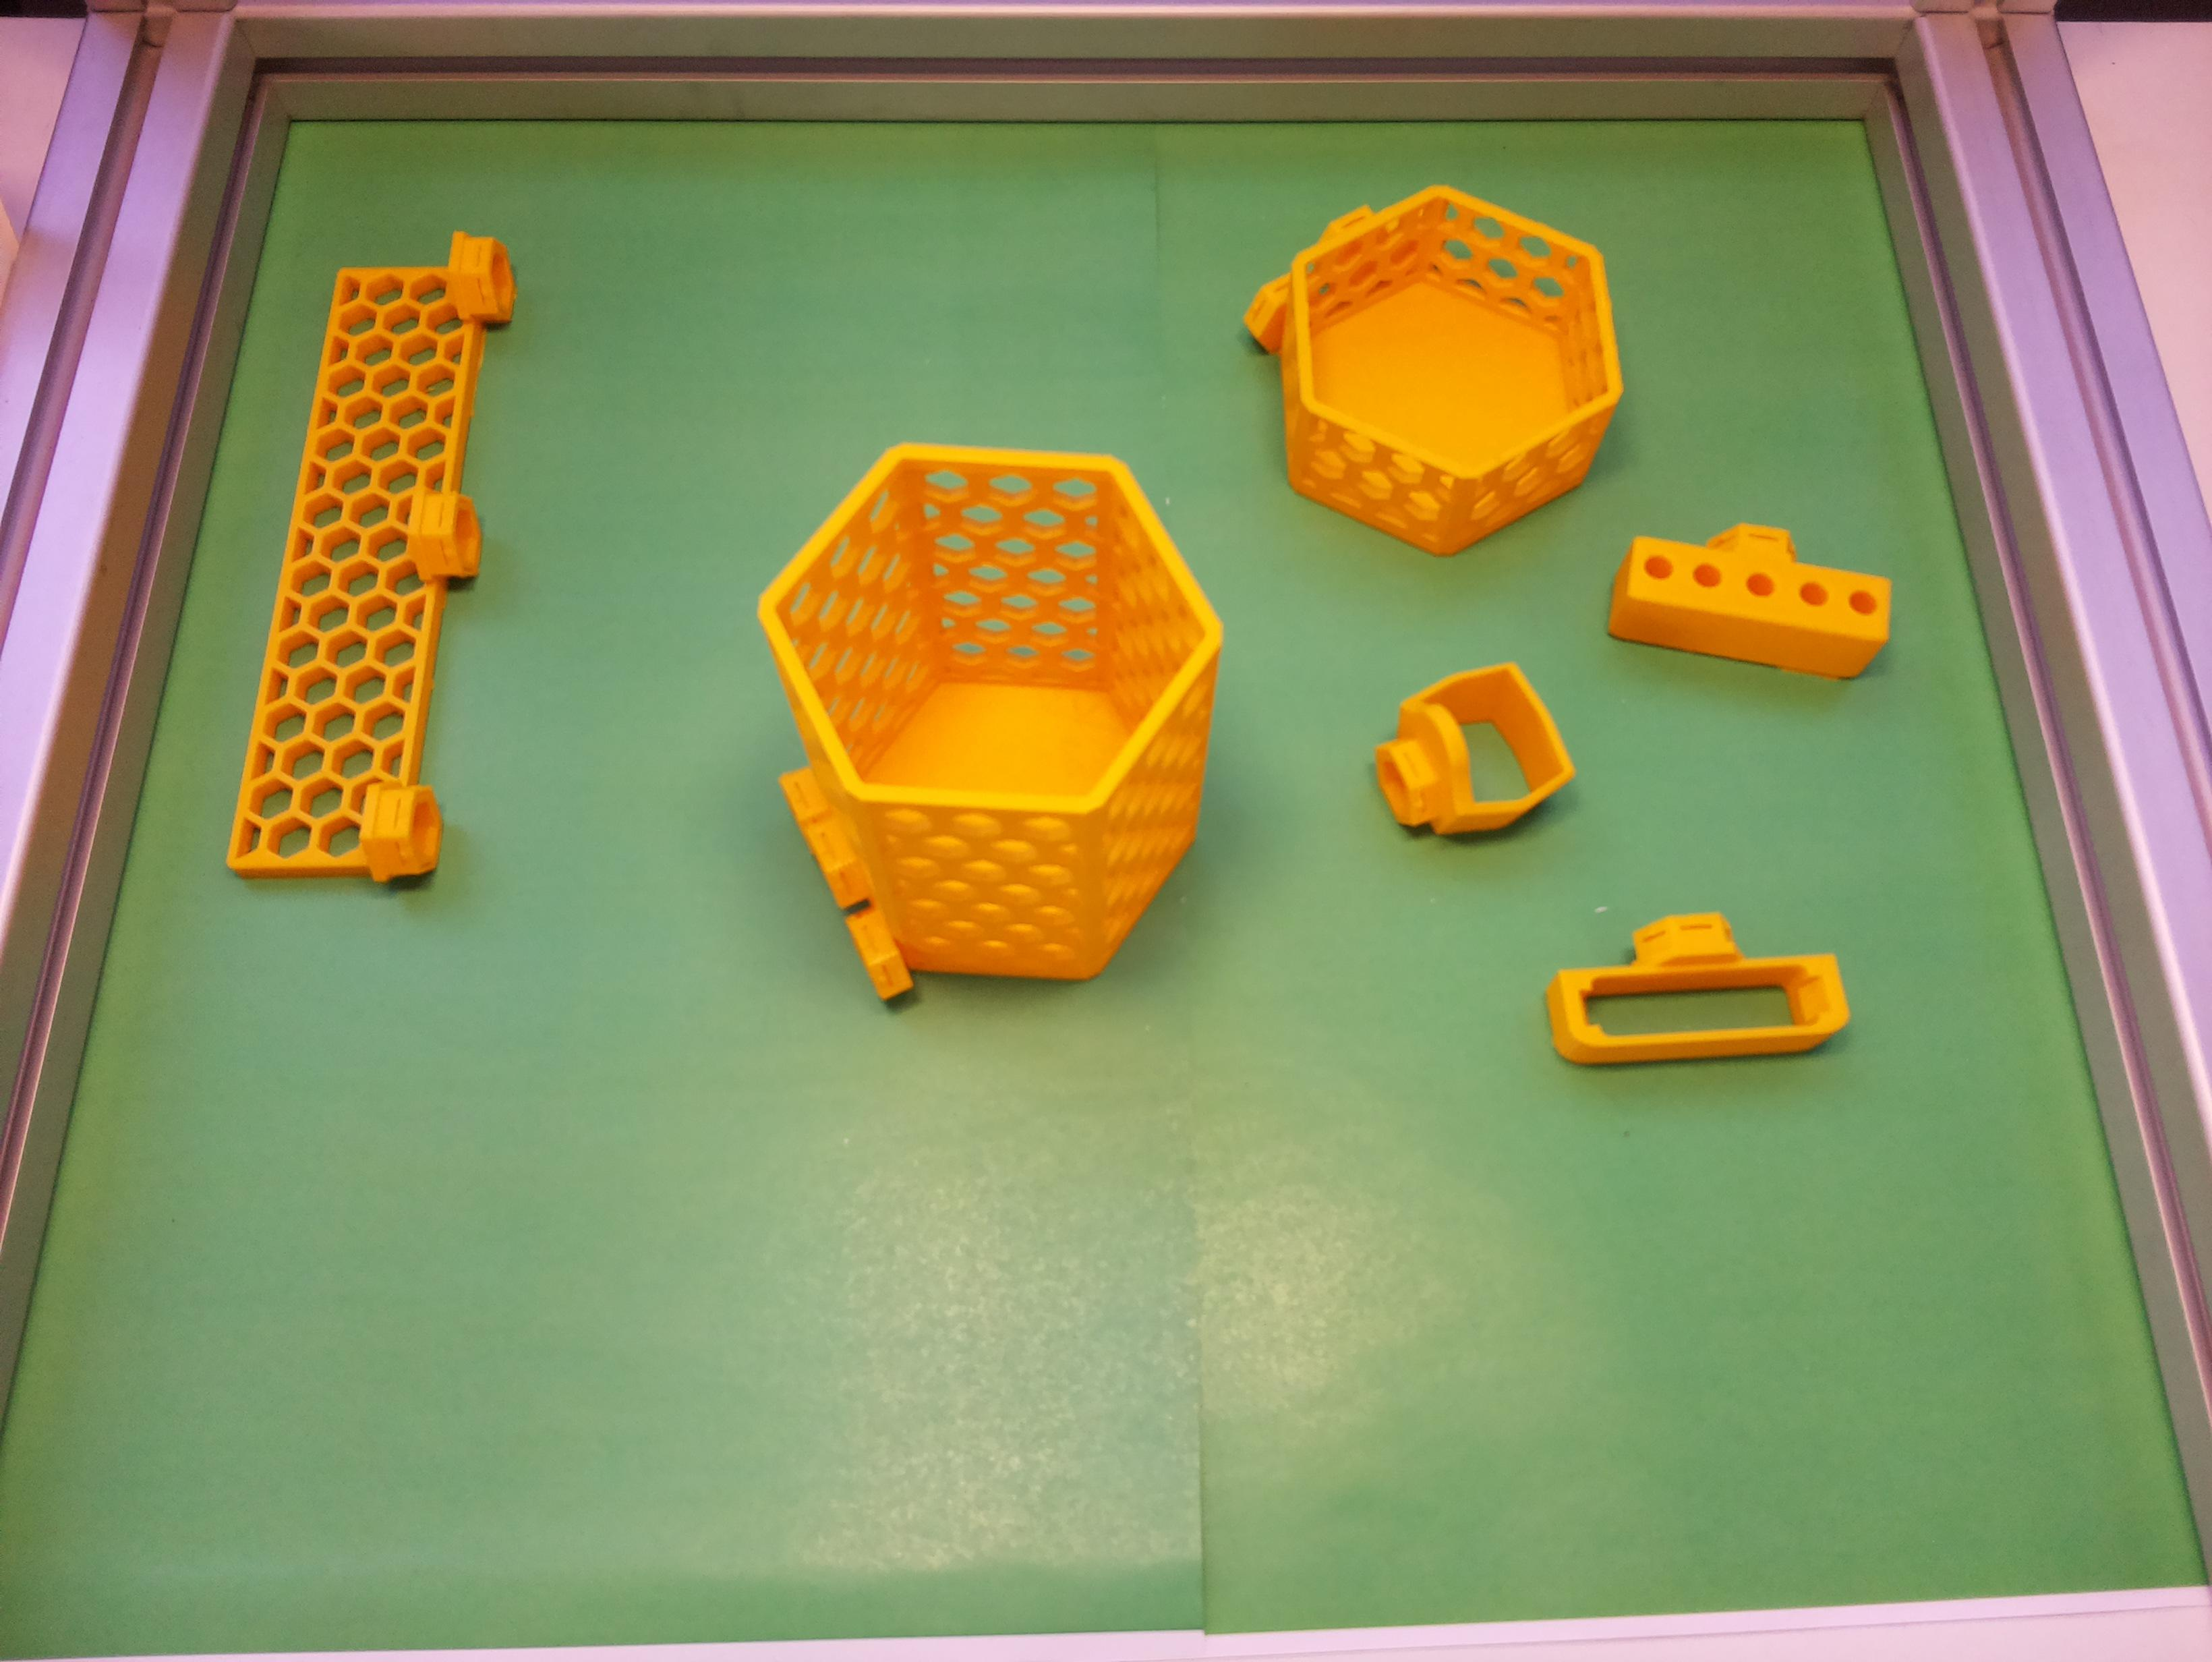bit_holder: (1604, 508, 1899, 684)
bottle_holder: (1189, 133, 1669, 595)
cup_holder: (742, 414, 1257, 1009)
cutter_holder: (1543, 904, 1851, 1068)
scissor_holder: (1348, 642, 1585, 869)
tool_holder: (225, 211, 526, 903)
